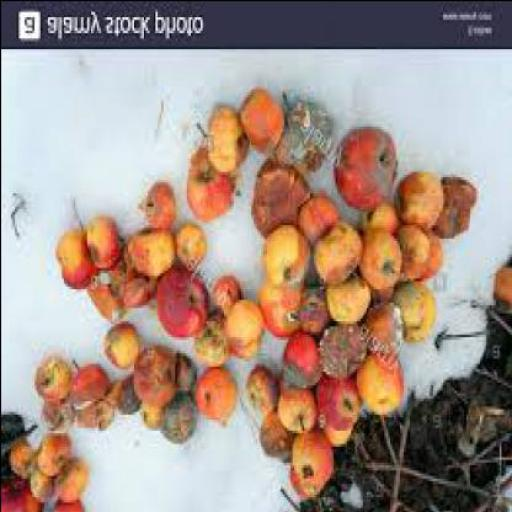biodegradable: (280, 416, 504, 511), (402, 379, 510, 480), (332, 131, 395, 214), (246, 160, 307, 242), (269, 96, 330, 176), (154, 267, 208, 341), (473, 301, 510, 403), (183, 152, 235, 221), (193, 110, 245, 176), (104, 246, 156, 310), (350, 354, 401, 418), (312, 224, 362, 286), (236, 90, 282, 154), (428, 178, 475, 240), (130, 347, 172, 414), (312, 328, 364, 382), (260, 226, 305, 288), (311, 370, 355, 432), (290, 430, 332, 494), (356, 301, 405, 355), (395, 173, 442, 229), (389, 285, 433, 344), (276, 333, 320, 392), (357, 232, 397, 296), (121, 232, 174, 280), (51, 235, 95, 291), (1, 414, 33, 488), (389, 227, 426, 283), (322, 280, 367, 326), (220, 298, 262, 346), (258, 291, 297, 342), (84, 275, 123, 326), (192, 311, 226, 368), (273, 392, 315, 438), (256, 416, 295, 462), (293, 201, 338, 240), (412, 231, 442, 288), (64, 371, 106, 411), (100, 328, 135, 374), (1, 472, 43, 510), (81, 224, 115, 270), (140, 184, 172, 230), (34, 432, 66, 478), (158, 403, 192, 445), (32, 361, 68, 400), (244, 374, 274, 419), (174, 226, 203, 272), (360, 203, 396, 238), (86, 387, 116, 429), (294, 288, 320, 336), (48, 470, 82, 506), (209, 275, 239, 315), (487, 264, 510, 314), (113, 374, 137, 419), (6, 446, 33, 482), (37, 400, 66, 432), (24, 470, 50, 504), (71, 408, 98, 440), (316, 424, 346, 451), (360, 283, 392, 307), (172, 357, 191, 397), (223, 338, 256, 360), (286, 472, 312, 499), (50, 498, 84, 511), (143, 408, 156, 430)
